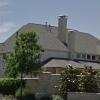Chimney: (52, 10, 70, 49)
